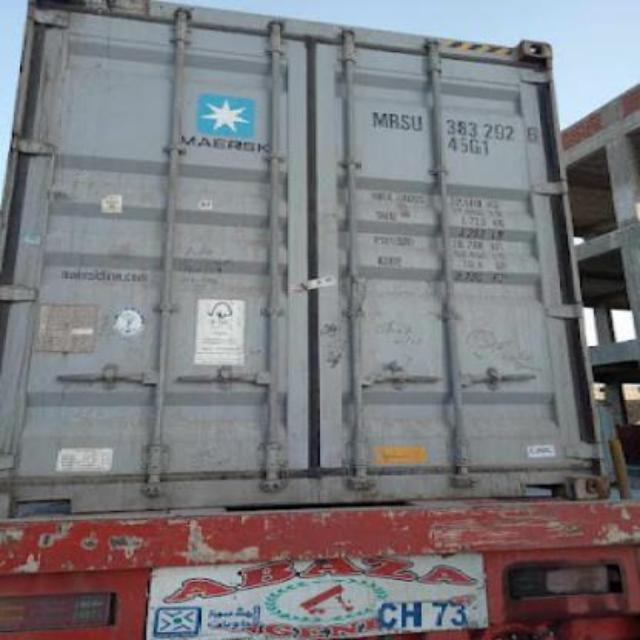2: (504, 124, 518, 140), (482, 122, 494, 140)
3: (468, 118, 480, 138), (444, 119, 458, 135)
6: (526, 124, 538, 142)
8: (456, 119, 468, 135)
9: (494, 121, 506, 141)
M: (372, 110, 390, 130)
R: (388, 110, 400, 130)
S: (400, 111, 412, 132)
U: (410, 112, 426, 132)
